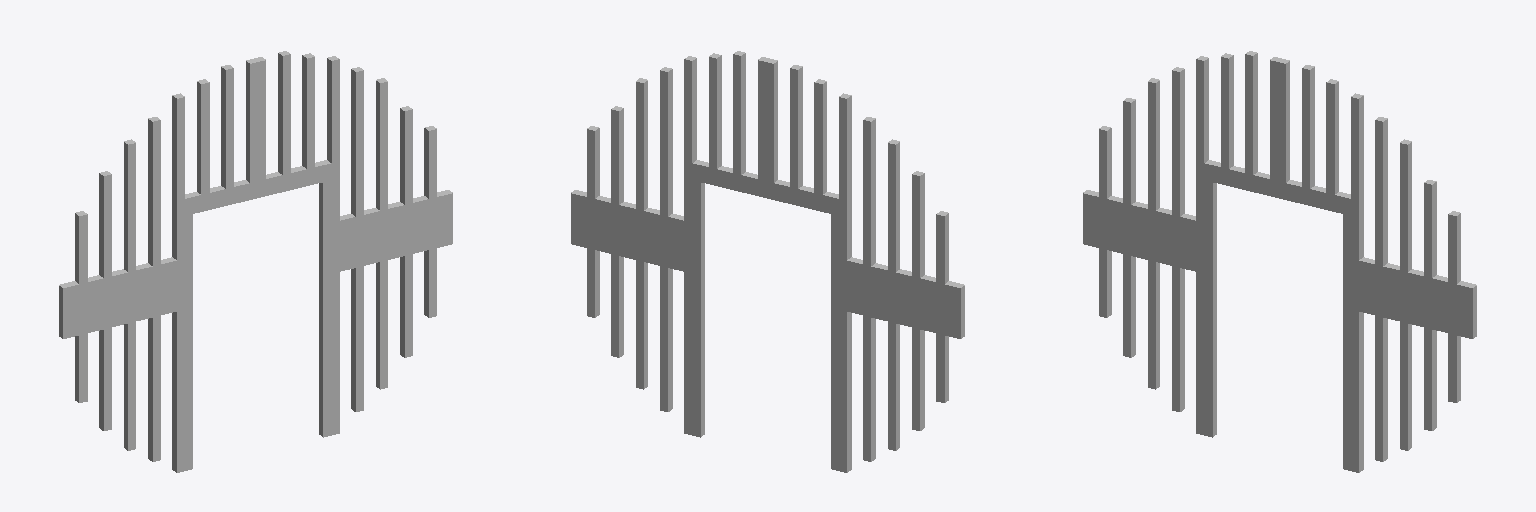
File: The Vault-8.obj
The picture shows the model from 3 angles: view 1: azimuth 30°, elevation 25°; view 2: azimuth 150°, elevation 25°; view 3: azimuth 330°, elevation 25°; orthographic projection.
Visible parts, largest first — view 1: The Vault-8; view 2: The Vault-8; view 3: The Vault-8.
Part boxes in pixels (bbox=[...]): The Vault-8: bbox=[59, 51, 452, 472]; The Vault-8: bbox=[571, 51, 964, 472]; The Vault-8: bbox=[1083, 51, 1476, 472].
Size of the model in its own units: 48 by 46 by 1.